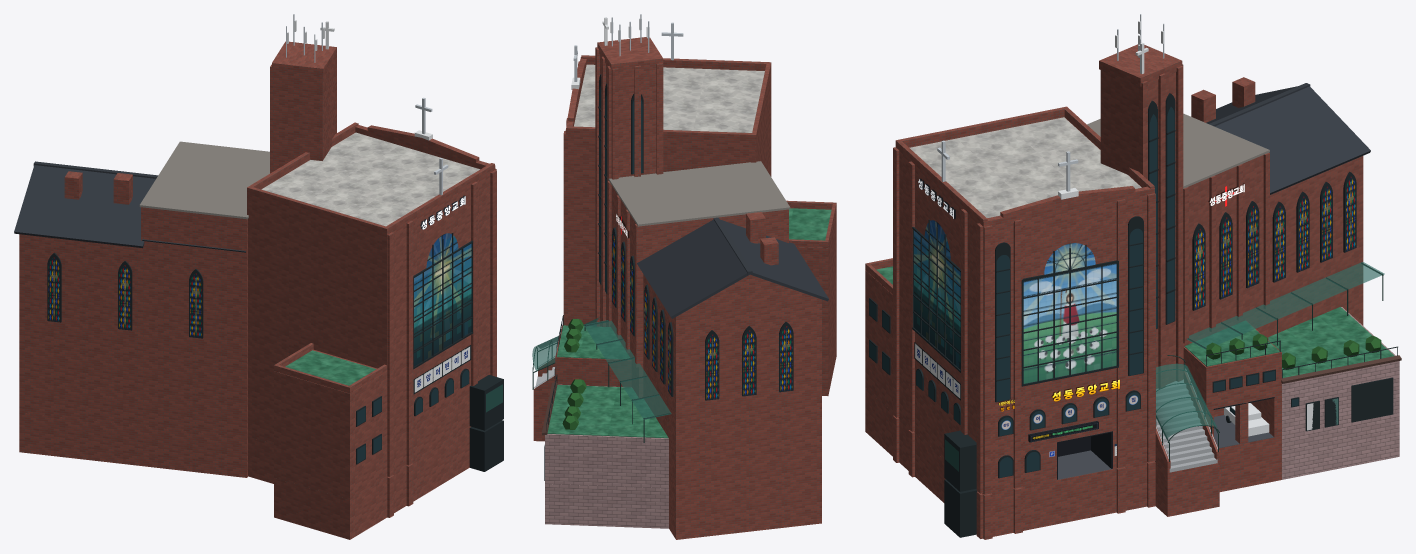
Rendered from place_성동중앙교회.glb.
3 renders of one model, left to right at view 1: azimuth 30°, elevation 25°; view 2: azimuth 150°, elevation 25°; view 3: azimuth 270°, elevation 25°, orthographic. The views are drawn at different scales.
Visible parts, largest first — view 1: Merged_Main_RedBrick, Merged_Sanc_RedBrick, Merged_Main_LightRoof, Merged_Sanc_SlateRoof, Merged_Sanc_Coping, Merged_Main_Pilasters, Merged_Bell_RedBrick, Hero_SE_StainedGlass, Merged_SE_Vestibule, Merged_Hero_Mullions, Merged_Sanc_GothicGlass, Merged_Bell_Crown (+4 smaller); view 2: Merged_Sanc_RedBrick, Merged_Main_RedBrick, Merged_Annex1F_MauveBlock, Merged_Sanc_SlateRoof, Merged_Sanc_Coping, Merged_Main_LightRoof, Merged_Annex_GreenRoof, Merged_Bell_Pilasters, Merged_Sanc_GothicGlass, Merged_Gothic_Frame, Merged_Bell_RedBrick, AngledSanctuary_2F_TealCanopy (+11 smaller); view 3: Merged_Main_RedBrick, Merged_Main_Pilasters, Merged_Sanc_RedBrick, Merged_Main_LightRoof, Hero_East_GoodShepherd_StainedGlass, Merged_Annex1F_MauveBlock, Merged_Sanc_SlateRoof, Merged_Annex2F_RedBrick, Merged_Annex_GreenRoof, Merged_Bell_Pilasters, Merged_ArchWin_Glass, Merged_Hero_Mullions (+24 smaller).
Part boxes in pixels (x1=…): Merged_Main_RedBrick: x1=247, y1=122, x2=495, y2=539; Merged_Sanc_RedBrick: x1=19, y1=207, x2=247, y2=477; Merged_Main_LightRoof: x1=261, y1=132, x2=479, y2=226; Merged_Sanc_SlateRoof: x1=14, y1=161, x2=245, y2=252; Merged_Sanc_Coping: x1=139, y1=141, x2=269, y2=219; Merged_Main_Pilasters: x1=387, y1=168, x2=496, y2=517; Merged_Bell_RedBrick: x1=273, y1=57, x2=335, y2=171; Hero_SE_StainedGlass: x1=414, y1=233, x2=471, y2=366; Merged_SE_Vestibule: x1=469, y1=375, x2=503, y2=471; Merged_Hero_Mullions: x1=413, y1=233, x2=473, y2=369; Merged_Sanc_GothicGlass: x1=48, y1=257, x2=201, y2=337; Merged_Bell_Crown: x1=272, y1=41, x2=336, y2=76; Merged_Sanc_RedBrick: x1=610, y1=185, x2=821, y2=539; Merged_Main_RedBrick: x1=565, y1=55, x2=836, y2=395; Merged_Annex1F_MauveBlock: x1=545, y1=384, x2=668, y2=528; Merged_Sanc_SlateRoof: x1=637, y1=217, x2=828, y2=318; Merged_Sanc_Coping: x1=608, y1=161, x2=790, y2=226; Merged_Main_LightRoof: x1=574, y1=64, x2=764, y2=132; Merged_Annex_GreenRoof: x1=547, y1=325, x2=668, y2=438; Merged_Bell_Pilasters: x1=595, y1=47, x2=663, y2=326; Merged_Sanc_GothicGlass: x1=612, y1=232, x2=792, y2=399; Merged_Gothic_Frame: x1=599, y1=74, x2=793, y2=400; Merged_Bell_RedBrick: x1=600, y1=55, x2=656, y2=326; AngledSanctuary_2F_TealCanopy: x1=584, y1=320, x2=671, y2=419; Merged_Main_RedBrick: x1=865, y1=106, x2=1154, y2=536; Merged_Main_Pilasters: x1=893, y1=147, x2=1155, y2=539; Merged_Sanc_RedBrick: x1=1183, y1=155, x2=1363, y2=416; Merged_Main_LightRoof: x1=909, y1=117, x2=1141, y2=217; Hero_East_GoodShepherd_StainedGlass: x1=1023, y1=243, x2=1116, y2=383; Merged_Annex1F_MauveBlock: x1=1282, y1=307, x2=1399, y2=479; Merged_Sanc_SlateRoof: x1=1206, y1=83, x2=1370, y2=194; Merged_Annex2F_RedBrick: x1=1183, y1=321, x2=1281, y2=491; Merged_Annex_GreenRoof: x1=1184, y1=306, x2=1394, y2=377; Merged_Bell_Pilasters: x1=1140, y1=64, x2=1183, y2=388; Merged_ArchWin_Glass: x1=916, y1=228, x2=1142, y2=477; Merged_Hero_Mullions: x1=912, y1=219, x2=1118, y2=386.
Bounding box in the file's own units: 34.49 × 36.8 × 39.72.
Materials: 41 (25 with a texture image).
